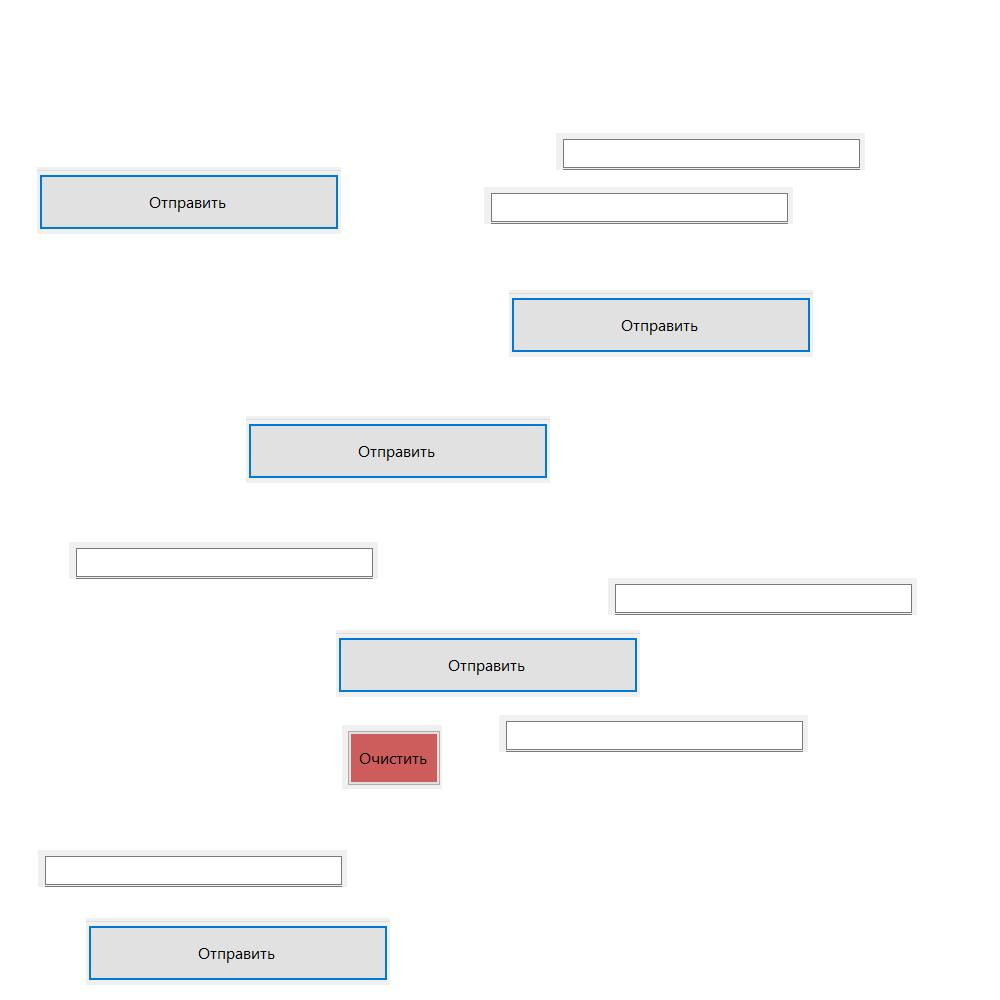Button: (246, 416, 550, 483), (37, 167, 341, 234), (509, 290, 813, 357), (86, 918, 390, 985), (336, 630, 640, 697), (342, 725, 442, 789)
EditText-: (69, 542, 378, 579), (556, 133, 865, 170), (38, 850, 347, 887), (484, 187, 793, 224), (608, 578, 917, 615), (499, 715, 808, 752)
